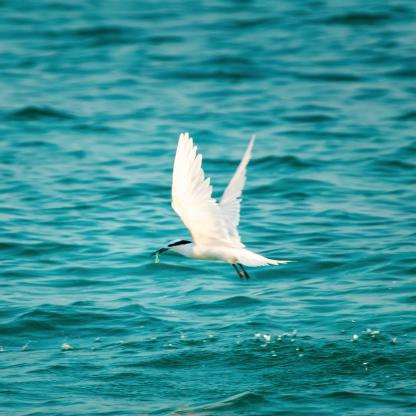bird: (152, 131, 289, 278)
